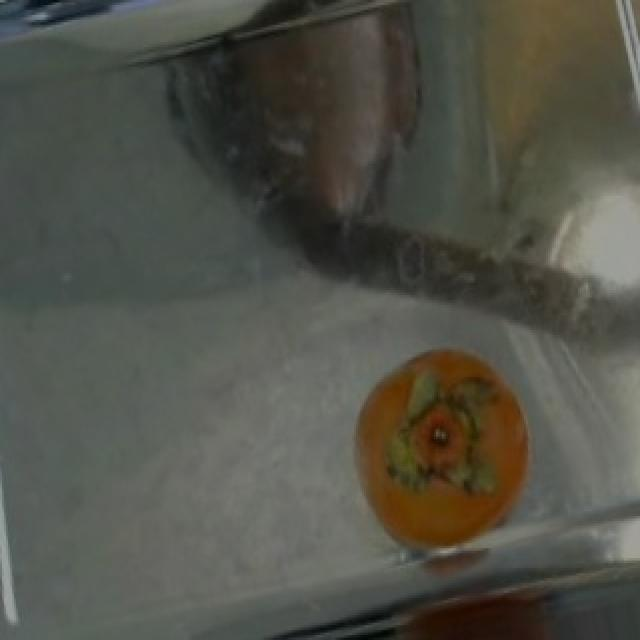Fruit: (330, 335, 558, 575)
